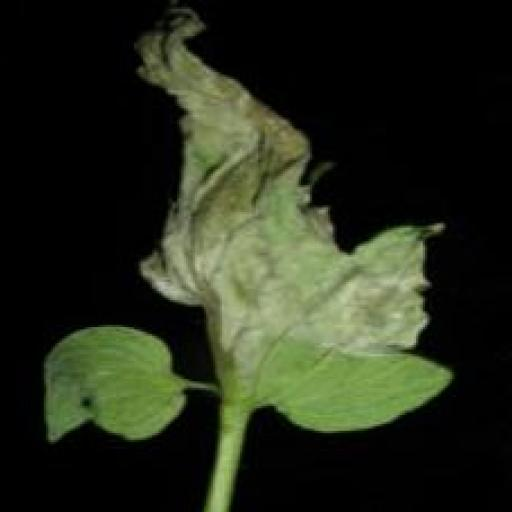disease_tomato: (36, 2, 462, 456)
